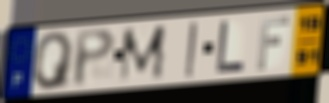F: (255, 14, 292, 72)
I: (184, 19, 199, 80)
L: (215, 19, 247, 76)
M: (117, 23, 168, 86)
P: (72, 26, 118, 89)
Q: (32, 30, 76, 92)
